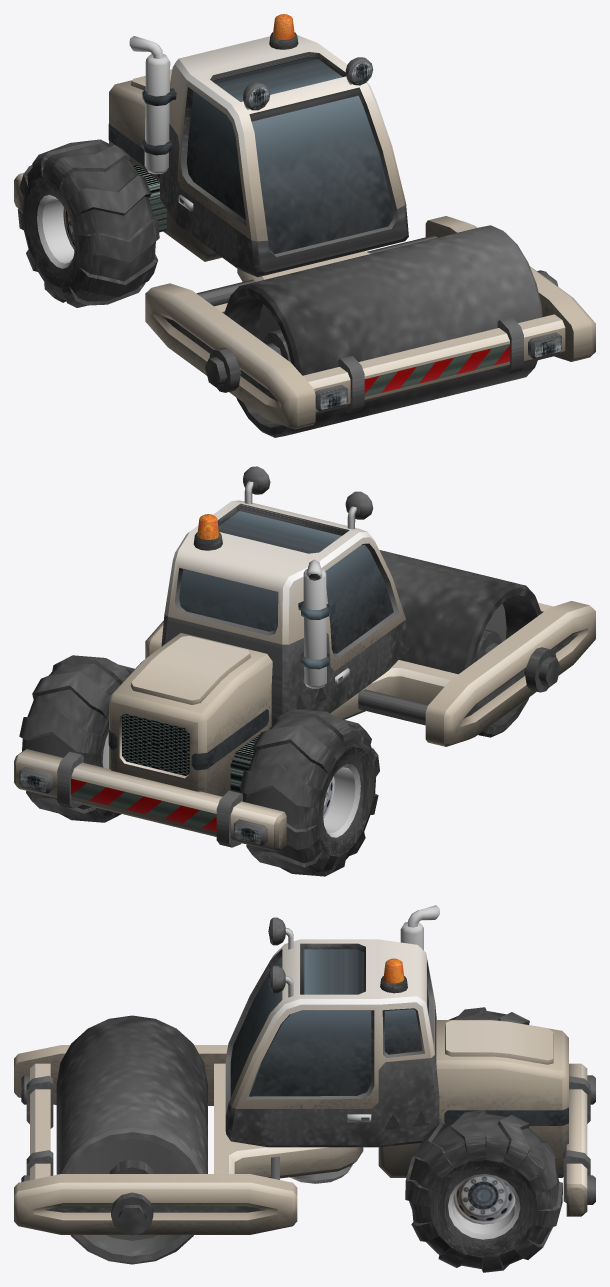
File: VHC0110021.FBX
3 views of the same model, one above another, from view 1: azimuth 30°, elevation 25°; view 2: azimuth 150°, elevation 25°; view 3: azimuth 270°, elevation 25° (orthographic). The views are drawn at different scales.
Parts seen in each view (by area): view 1: smVHC0110021; view 2: smVHC0110021; view 3: smVHC0110021.
Part boxes in pixels (x1=…): smVHC0110021: x1=14, y1=14, x2=595, y2=437; smVHC0110021: x1=14, y1=466, x2=595, y2=876; smVHC0110021: x1=14, y1=905, x2=595, y2=1272.
Bounding box in the file's own units: 383 × 301 × 593.
1 material, 1 textured.
